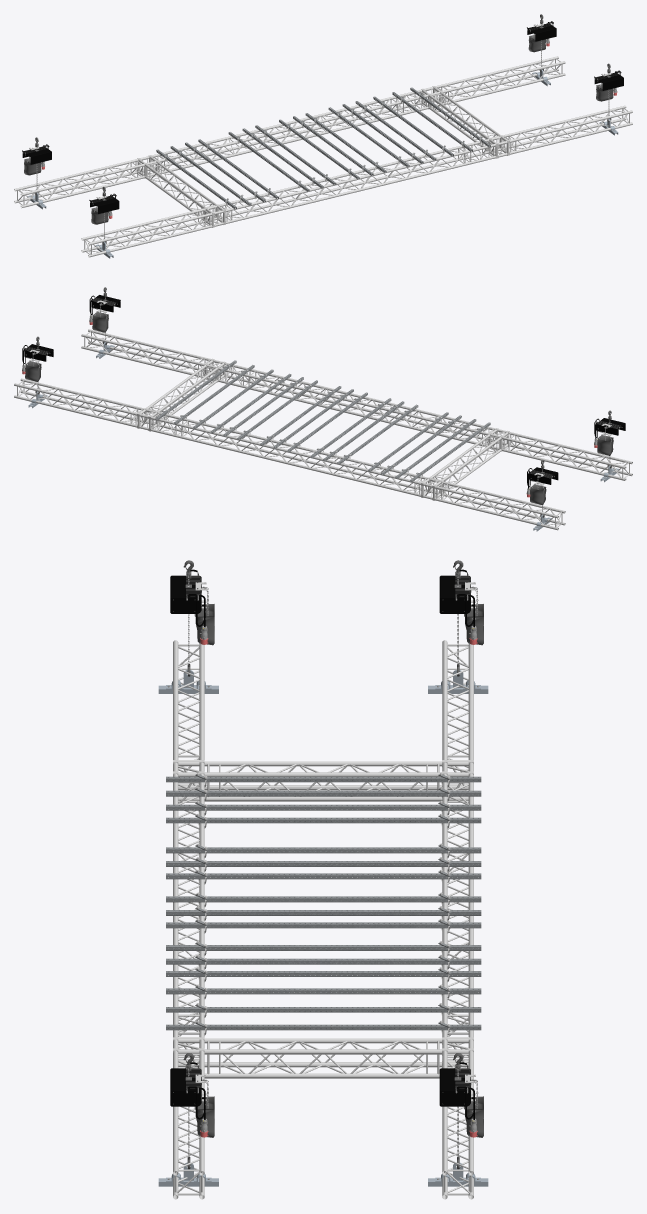
The model's file is Prolyte_30V_box_truss_proposal-81044fa3.glb.
The picture shows the model from 3 angles, top to bottom: view 1: azimuth 30°, elevation 25°; view 2: azimuth 150°, elevation 25°; view 3: azimuth 270°, elevation 25°; orthographic projection. The views are drawn at different scales.
Visible parts, largest first — view 1: Geom3D (×16); view 2: Geom3D (×11); view 3: Geom3D (×12).
Part boxes in pixels (x1,y1,x2,y2): Geom3D (×16): (14, 23, 632, 257); Geom3D (×11): (14, 329, 632, 530); Geom3D (×12): (170, 575, 473, 1199).
Size of the model in its own units: 11.38 by 1.31 by 2.99.
Materials: 19 (1 with a texture image).
